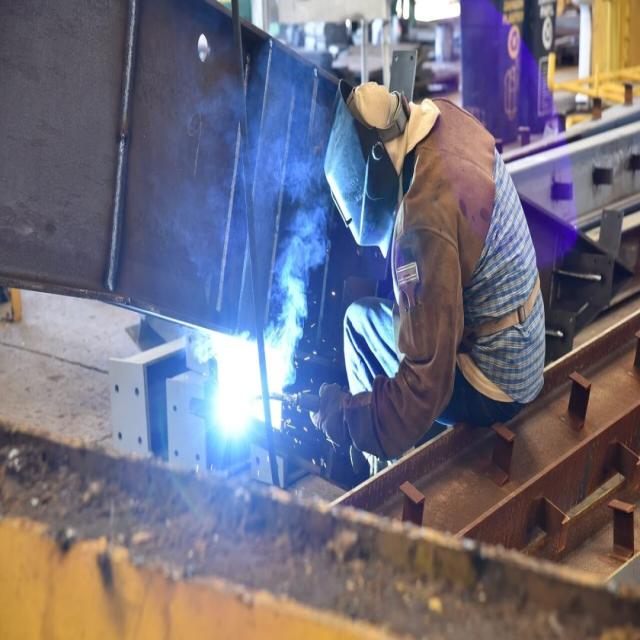welding: (216, 351, 254, 439)
